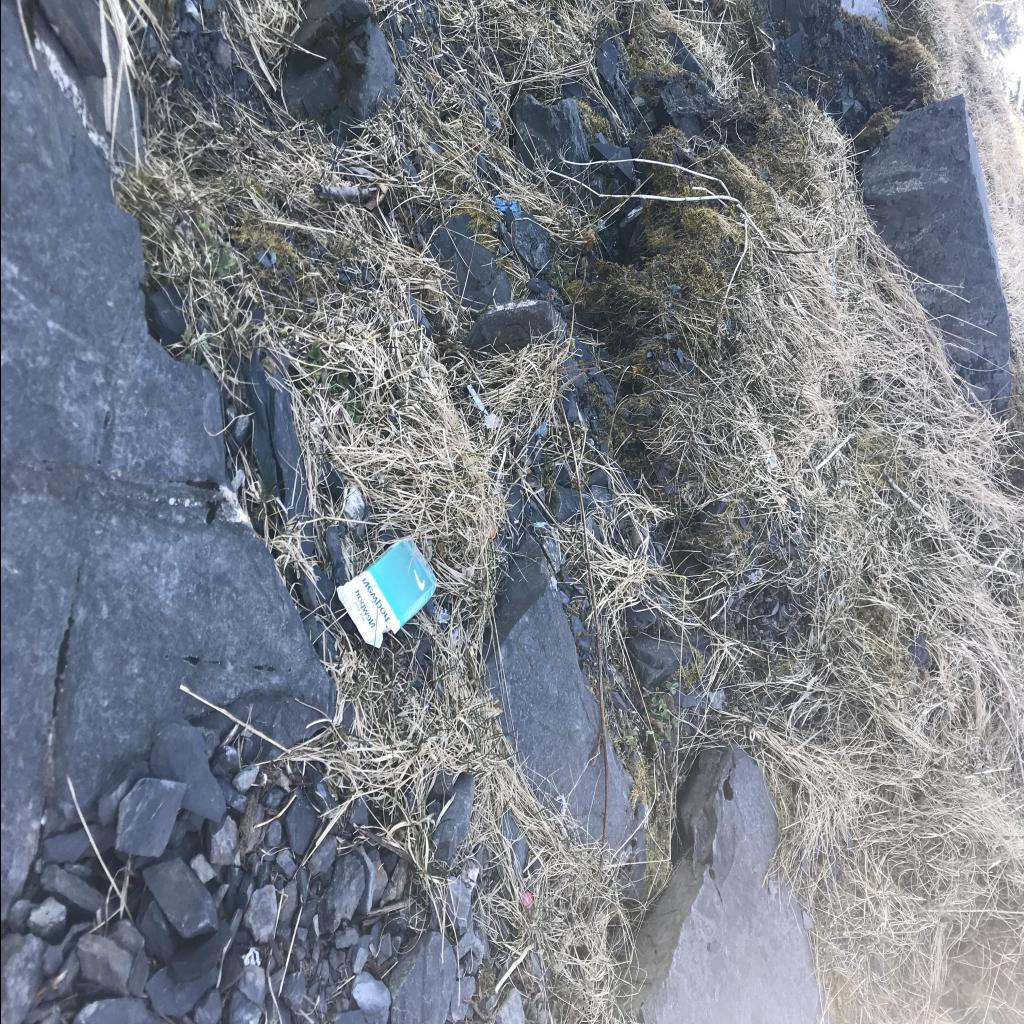Other carton: (335, 536, 435, 649)
Other plastic wrapper: (520, 892, 529, 908)
Unlabeled litter: (466, 386, 488, 416), (494, 198, 520, 216), (484, 414, 500, 426), (534, 522, 546, 528)
